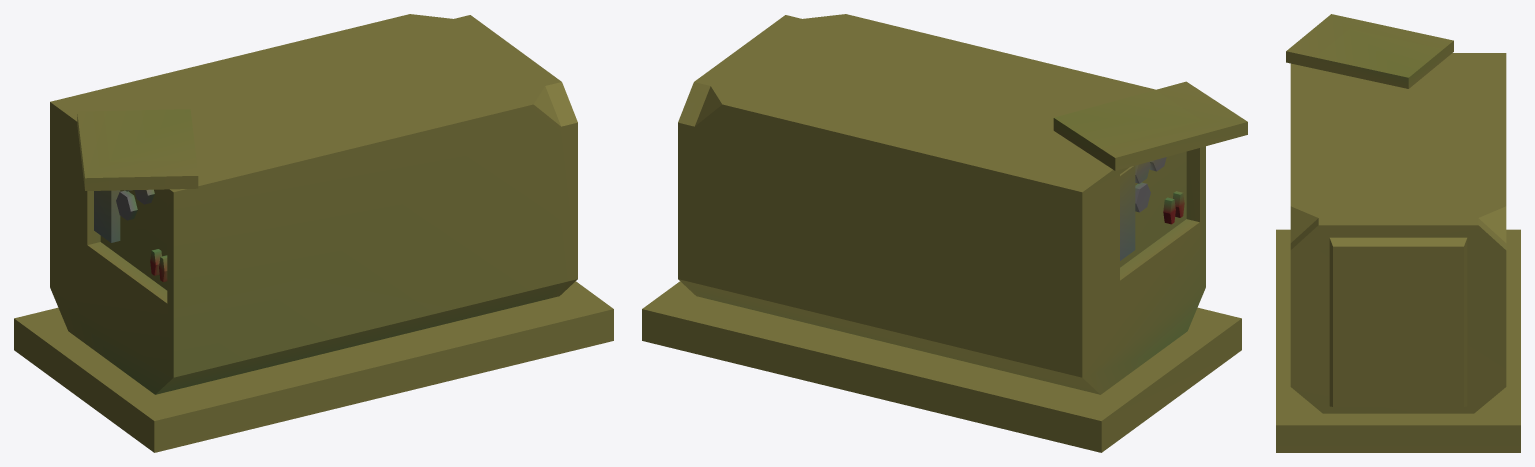
The model's file is GeradorA.fbx.
3 renders of one model, left to right at view 1: azimuth 30°, elevation 25°; view 2: azimuth 150°, elevation 25°; view 3: azimuth 270°, elevation 25°, orthographic. The views are drawn at different scales.
Parts seen in each view (by area): view 1: LOD_0; view 2: LOD_0; view 3: LOD_0.
Part boxes in pixels (x1,y1,x2,y2): LOD_0: (14,14,613,452); LOD_0: (642,14,1247,452); LOD_0: (1276,14,1520,452).
Size of what is drawn, in the model's own units: 372 by 186 by 182.
